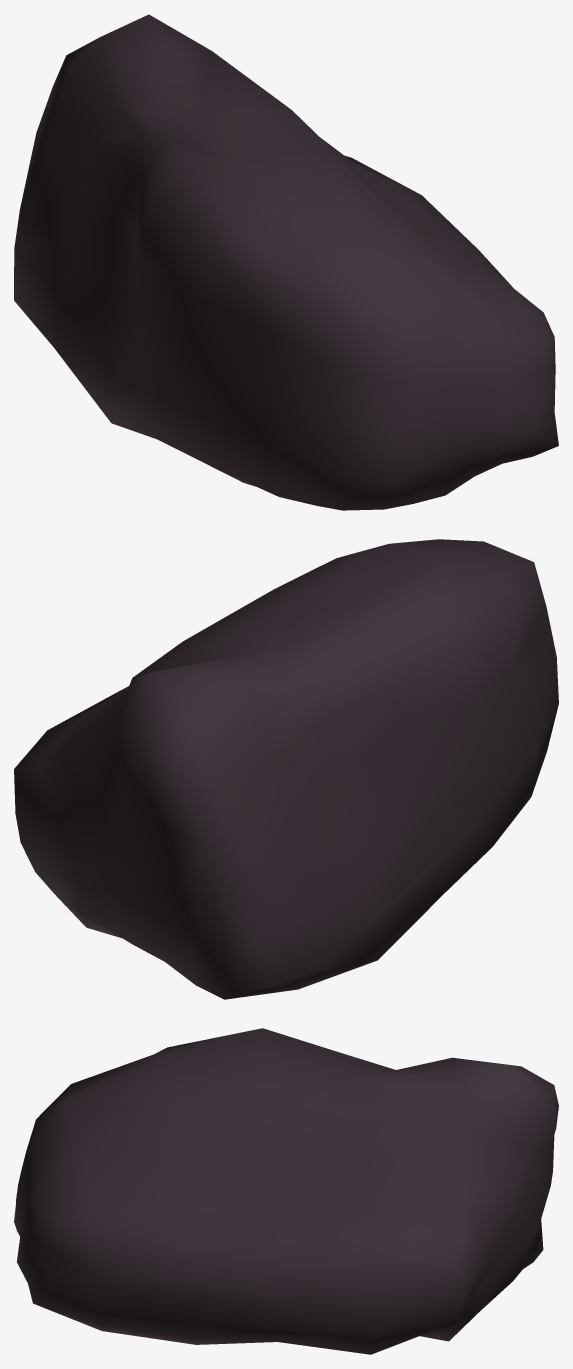
The model's file is Rock.002.fbx.
3 renders of one model, top to bottom at view 1: azimuth 30°, elevation 25°; view 2: azimuth 150°, elevation 25°; view 3: azimuth 270°, elevation 25°, orthographic. The views are drawn at different scales.
Parts seen in each view (by area): view 1: Rock.002; view 2: Rock.002; view 3: Rock.002.
Part boxes in pixels (bbox=[...]): Rock.002: bbox=[14, 14, 558, 510]; Rock.002: bbox=[14, 539, 558, 999]; Rock.002: bbox=[14, 1028, 558, 1354].
Bounding box in the file's own units: 1.37 × 2.28 × 1.19.
